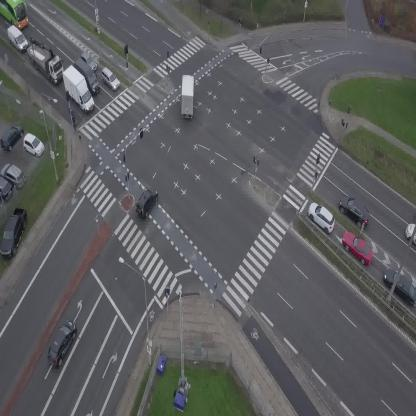bicycle: (71, 114, 79, 131)
car: (42, 317, 81, 368), (334, 189, 378, 232), (337, 227, 379, 267), (303, 199, 340, 236), (131, 184, 162, 220), (96, 66, 124, 92), (78, 50, 100, 71), (406, 223, 416, 245), (13, 412, 26, 416)
lorry: (17, 33, 72, 88), (55, 63, 104, 115), (70, 56, 105, 95), (3, 23, 30, 54), (179, 74, 197, 119)
